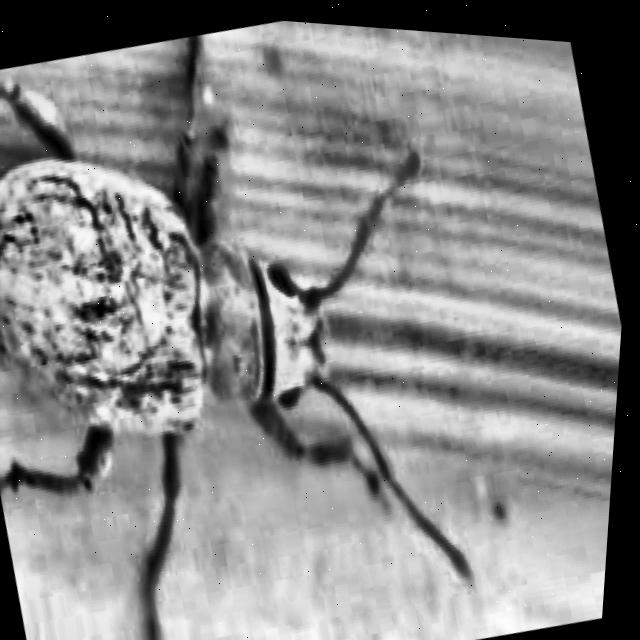Stink bug: (0, 0, 518, 640)
